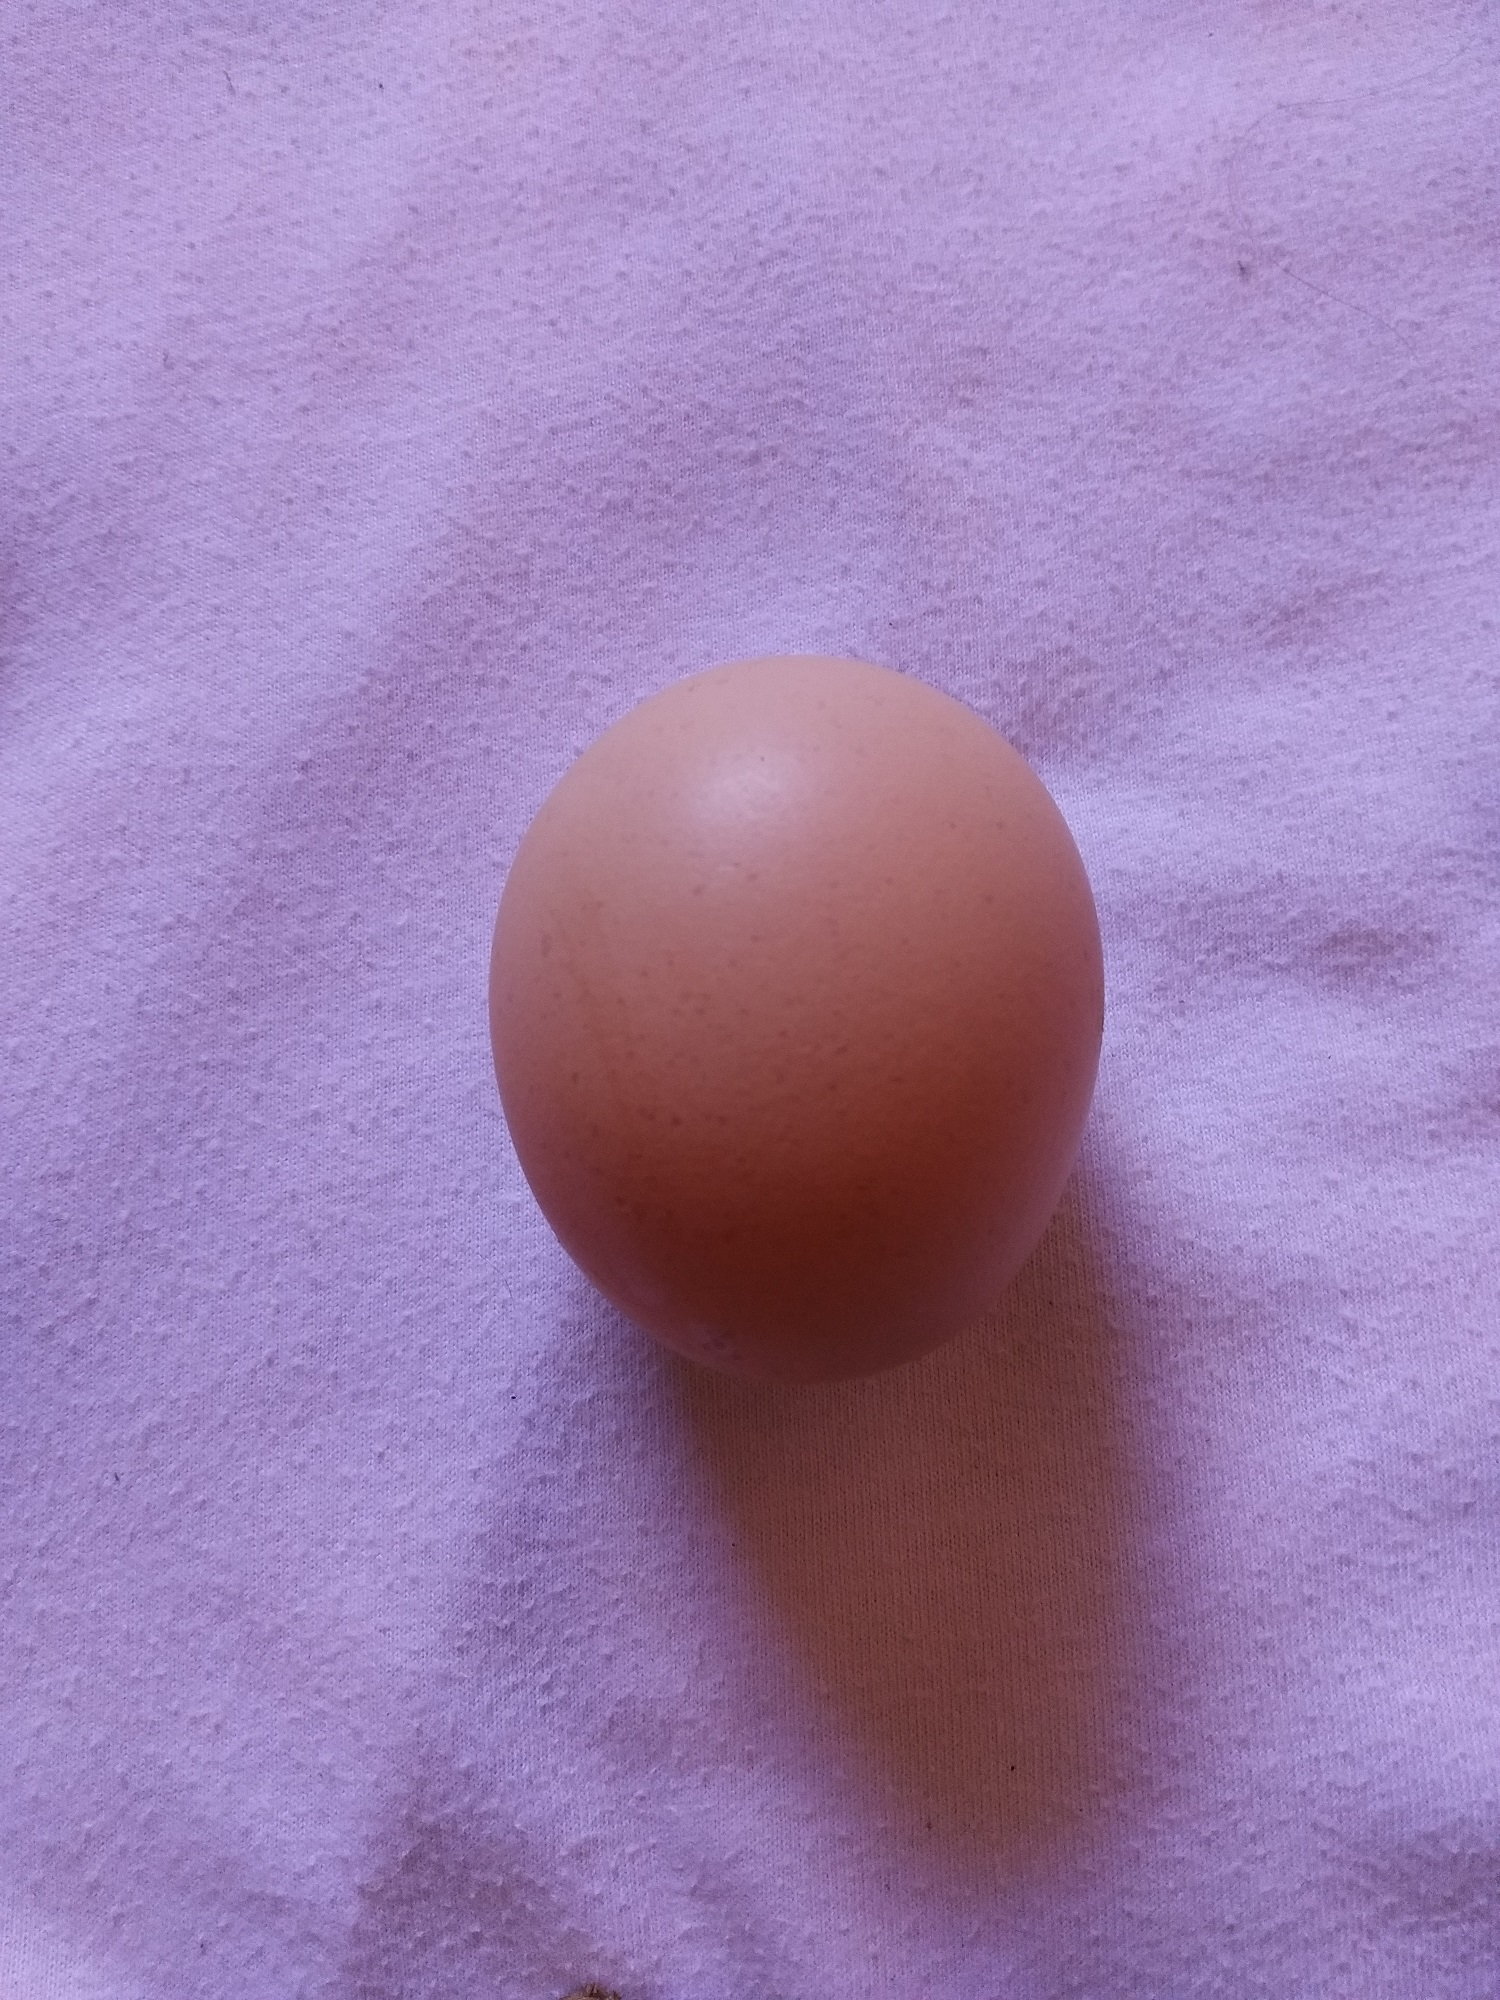Female: (484, 646, 1112, 1402)
